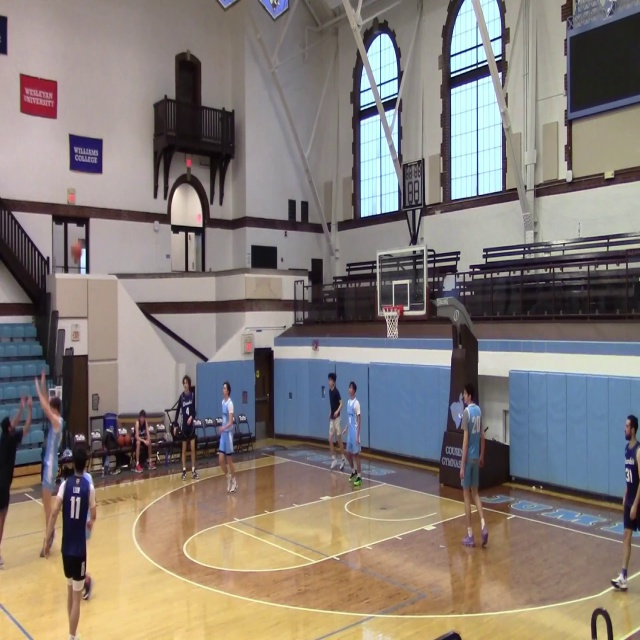Basketball: (71, 242, 83, 262)
